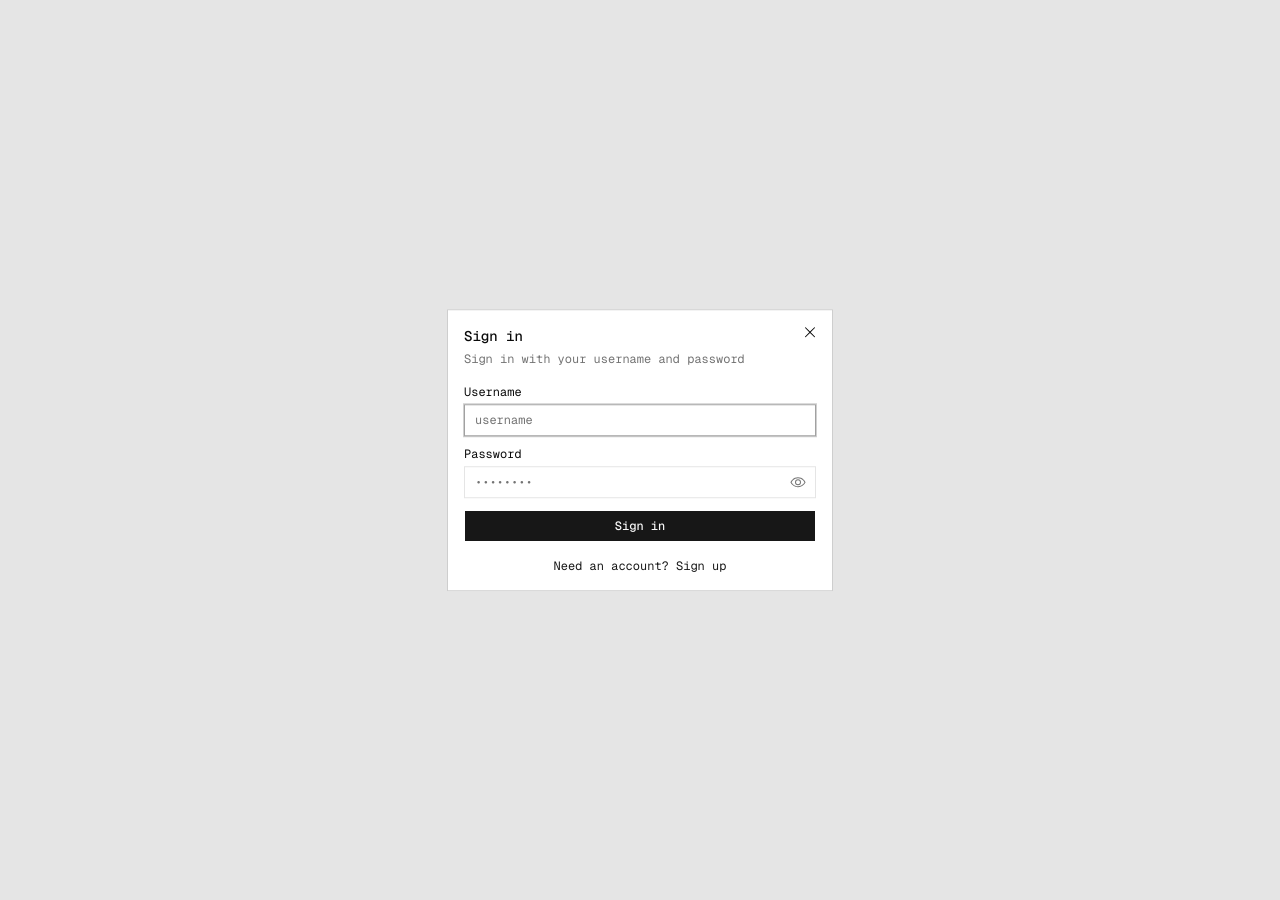
it: AuthDialog › shows a validation error for a weak password
This screenshot has width=1280, height=900.
Type "jati" into the field labelled "Username". click: (640, 420)
box: top-left (464, 404), bottom-right (816, 436)
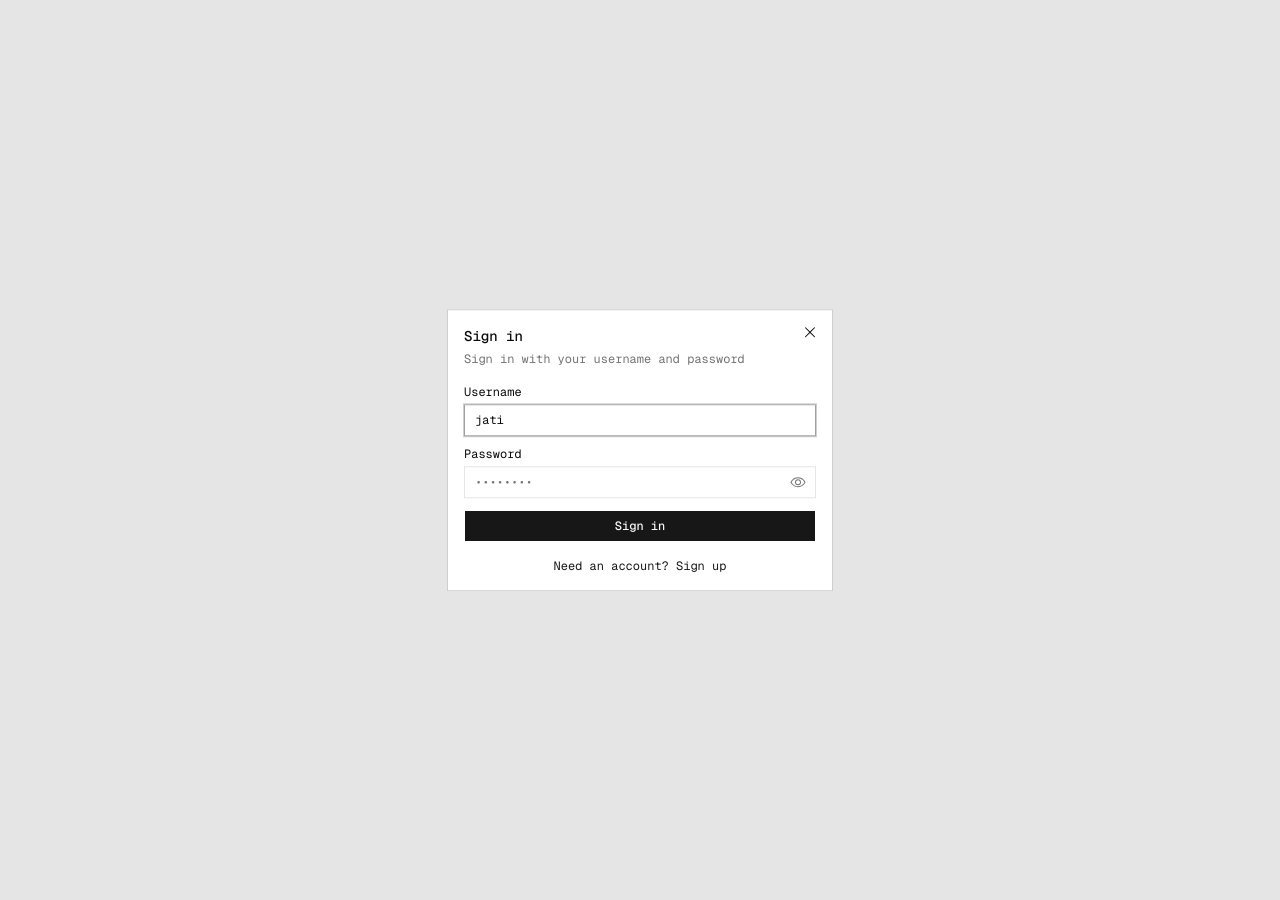
Type "abc" into the password field labelled "Password". click: (640, 482)
box: top-left (464, 466), bottom-right (816, 498)
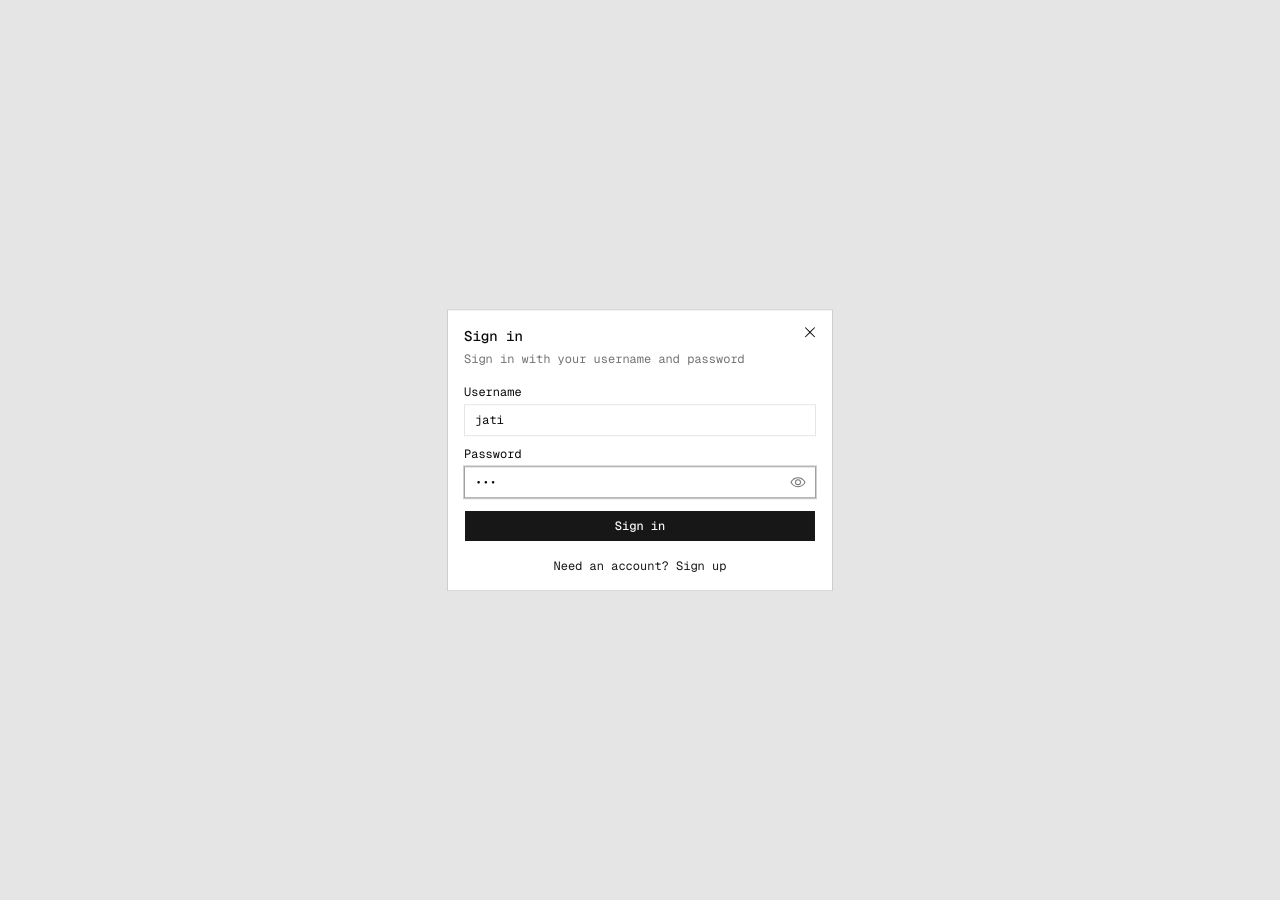
Click the button "Sign in". click: (640, 526)
box: top-left (464, 510), bottom-right (816, 542)
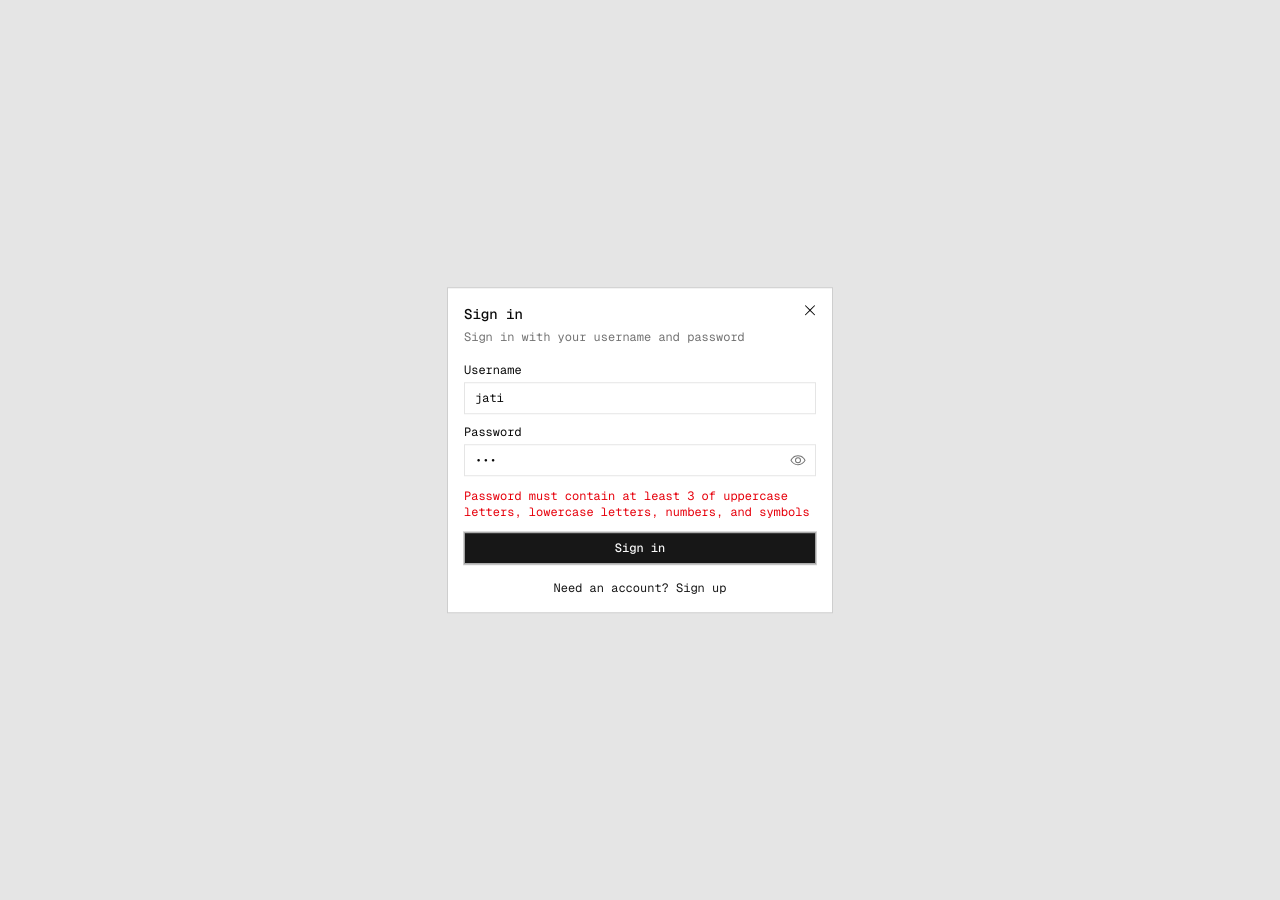
Expected: the text "at least 3 of uppercase letters" is shown, top-left (464, 488), bottom-right (810, 520)
